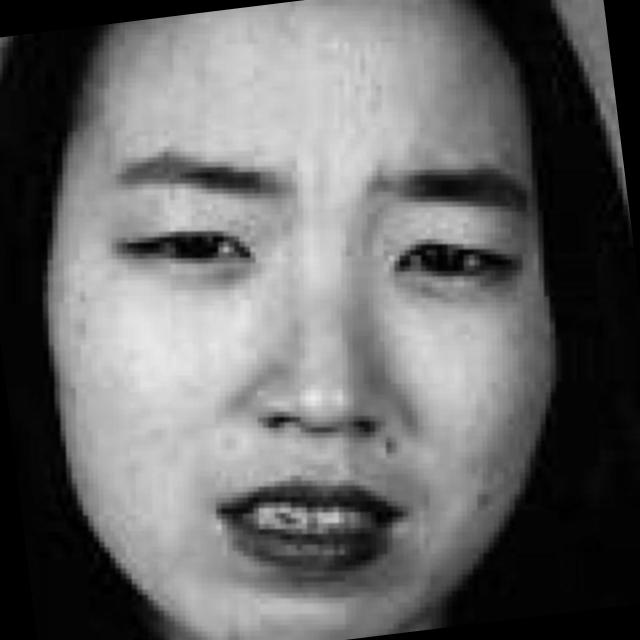disgust: (72, 4, 615, 640)
